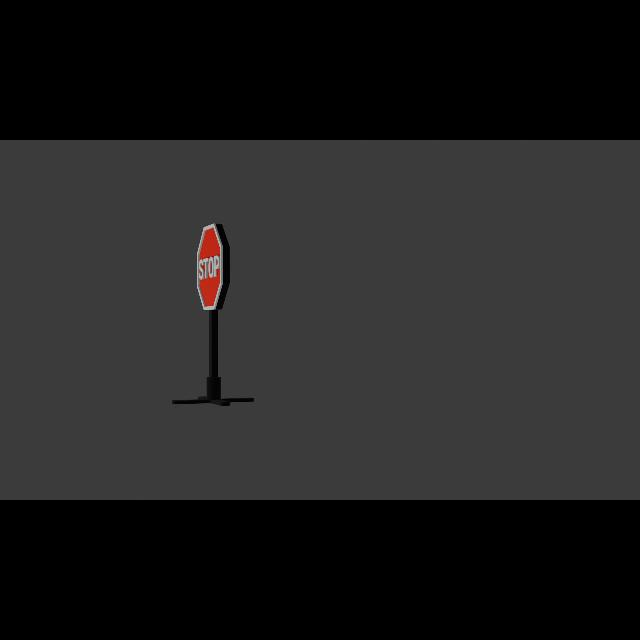sign_stop: (196, 223, 230, 311)
